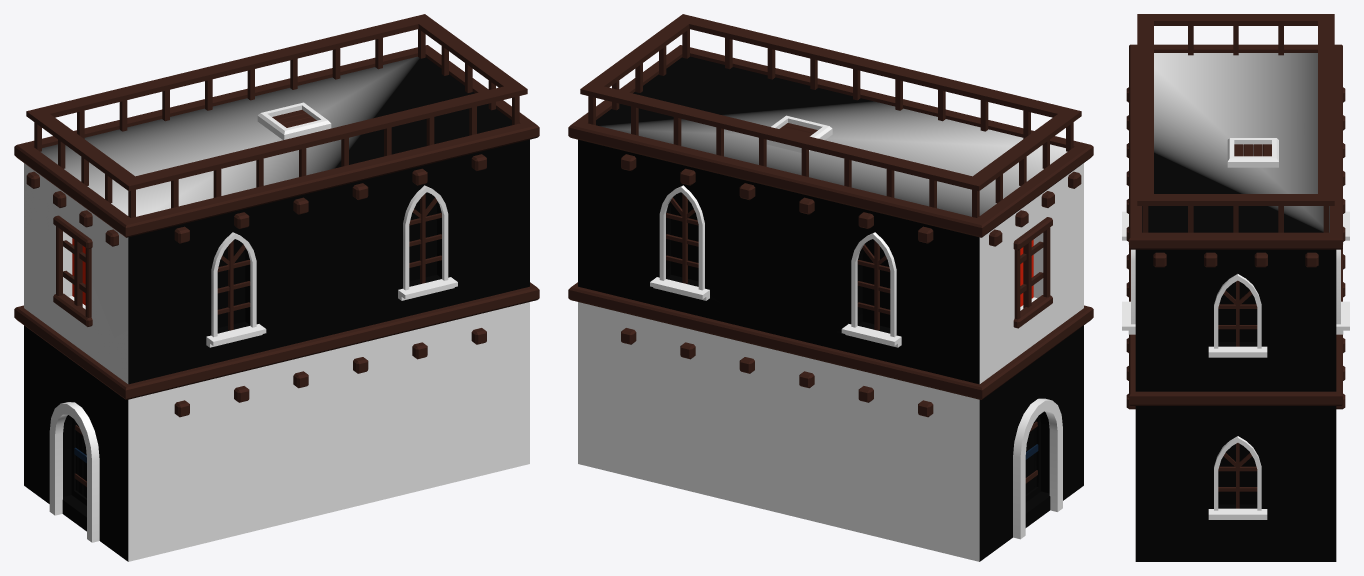
File: civilian_house_34_e.FBX
3 renders of one model, left to right at view 1: azimuth 30°, elevation 25°; view 2: azimuth 150°, elevation 25°; view 3: azimuth 270°, elevation 25°, orthographic. The views are drawn at different scales.
Visible parts, largest first — view 1: civilian_house_34_e; view 2: civilian_house_34_e; view 3: civilian_house_34_e.
Boxes of the visible parts, x1,y1,x2,y2 form: civilian_house_34_e: (14, 14, 539, 561); civilian_house_34_e: (568, 14, 1093, 561); civilian_house_34_e: (1122, 14, 1349, 561).
Bounding box in the file's own units: 1050 × 891 × 511.
